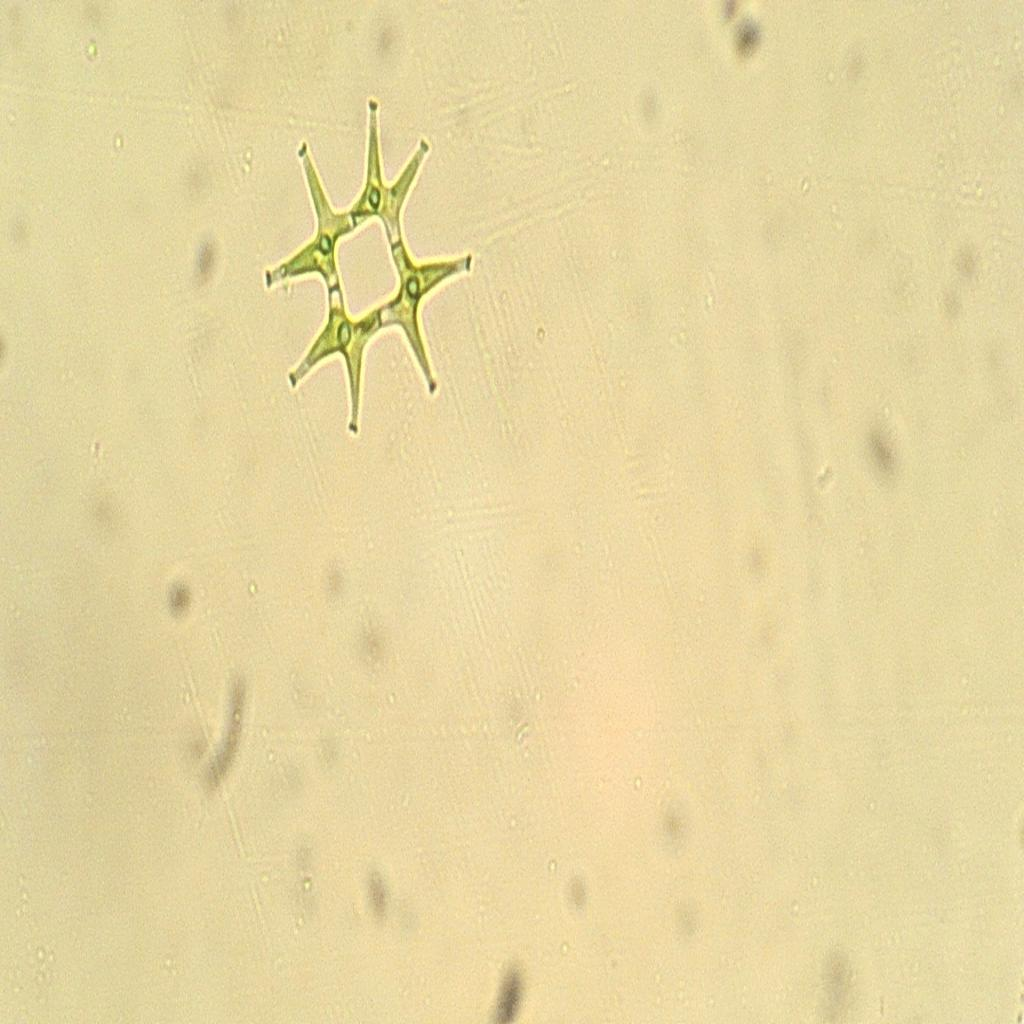Pediastrum_10: (246, 68, 484, 452)
